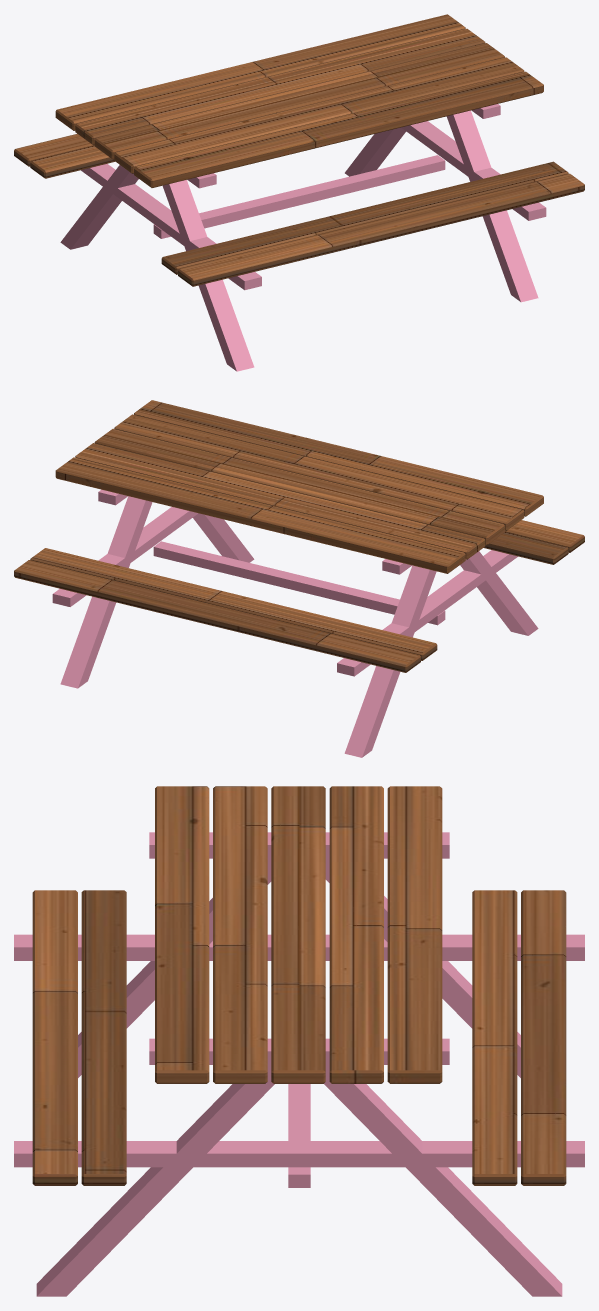
The model's file is picnic_m.glb.
3 renders of one model, top to bottom at view 1: azimuth 30°, elevation 25°; view 2: azimuth 150°, elevation 25°; view 3: azimuth 270°, elevation 25°, orthographic. The views are drawn at different scales.
Visible parts, largest first — view 1: picnic_m_teak, picnic_m_pic_m; view 2: picnic_m_teak, picnic_m_pic_m; view 3: picnic_m_teak, picnic_m_pic_m.
Boxes of the visible parts, x1,y1,x2,y2 form: picnic_m_teak: (14, 14, 584, 286); picnic_m_pic_m: (60, 104, 546, 371); picnic_m_teak: (14, 400, 584, 672); picnic_m_pic_m: (52, 489, 538, 757); picnic_m_teak: (32, 786, 566, 1185); picnic_m_pic_m: (14, 832, 584, 1296).
Bounding box in the file's own units: 1.8 × 0.76 × 1.52.
2 materials, 1 textured.
